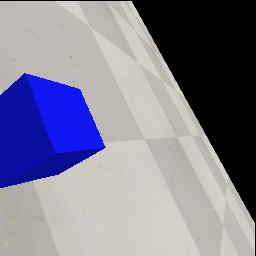box: (0, 72, 107, 188)
